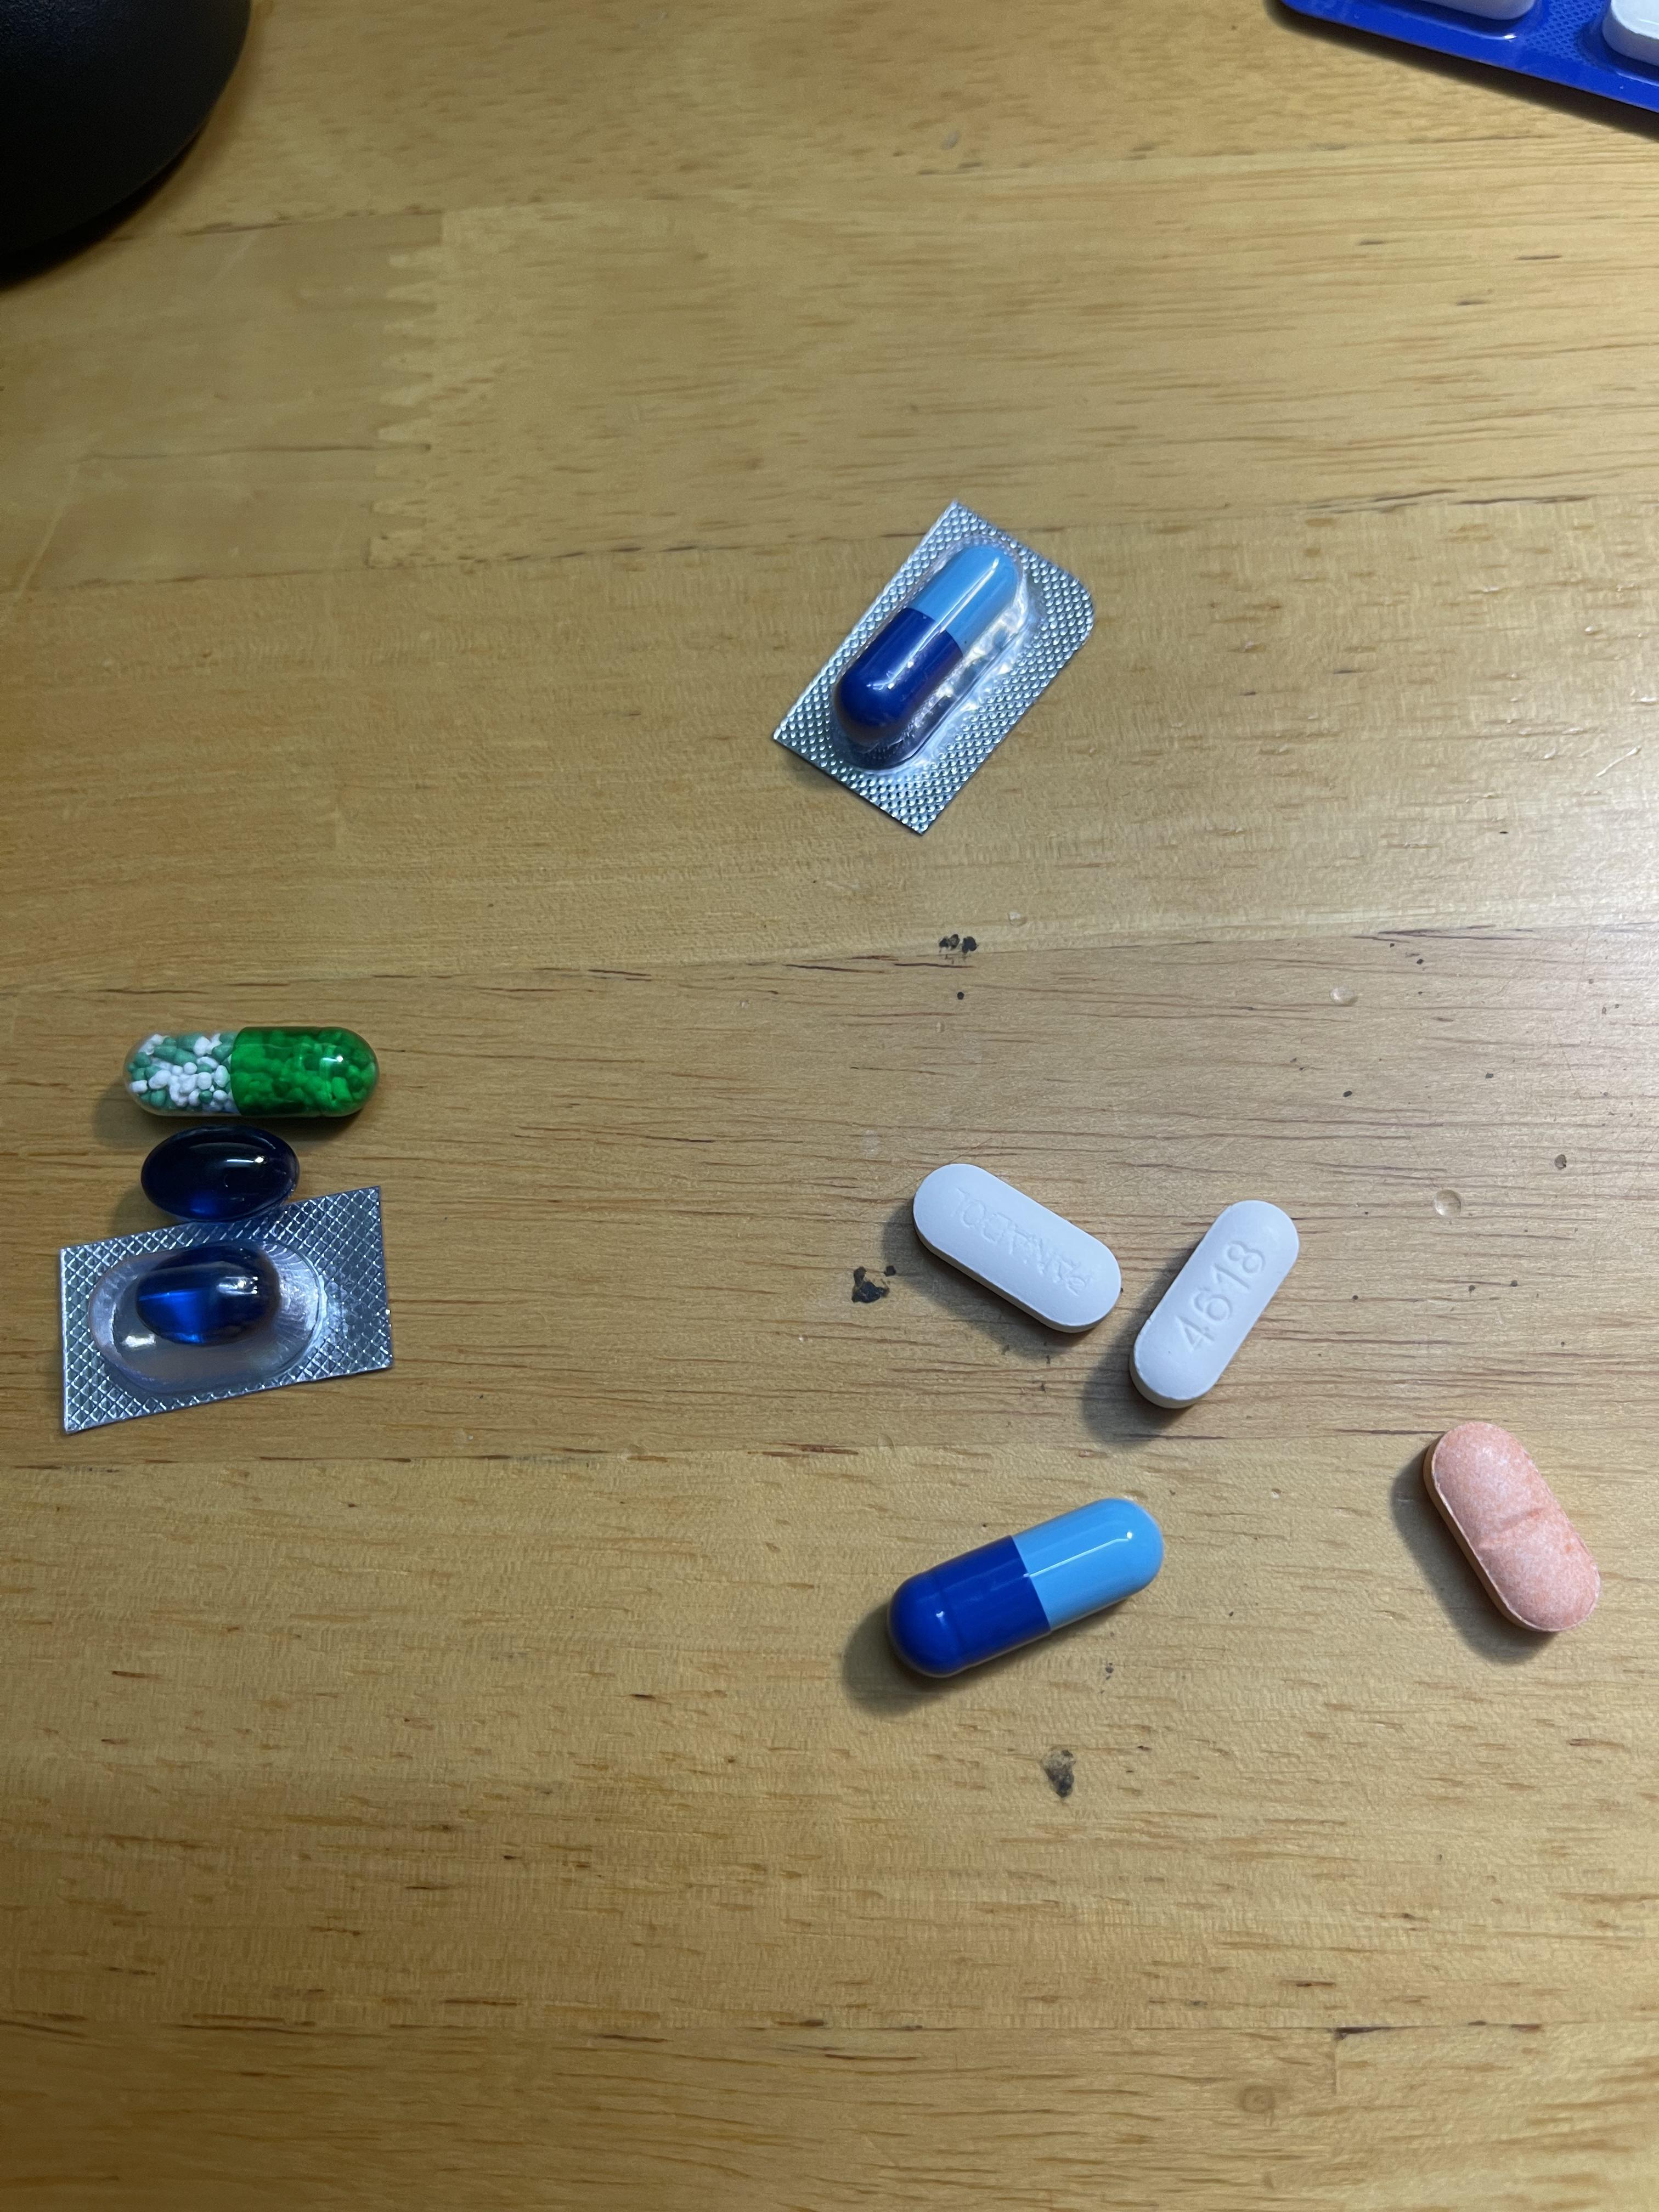Lincomyxin_500mg: (127, 1254, 284, 1350), (139, 1130, 296, 1214)
Loratadine_10mg: (1427, 1420, 1601, 1634)
Paracetamol_350mg: (913, 1162, 1121, 1336)
Paracetamol_500mg: (1131, 1195, 1297, 1409)
Paracetamol_650mg: (127, 1028, 369, 1120)
pill: (892, 1496, 1157, 1677), (840, 540, 1030, 763)
